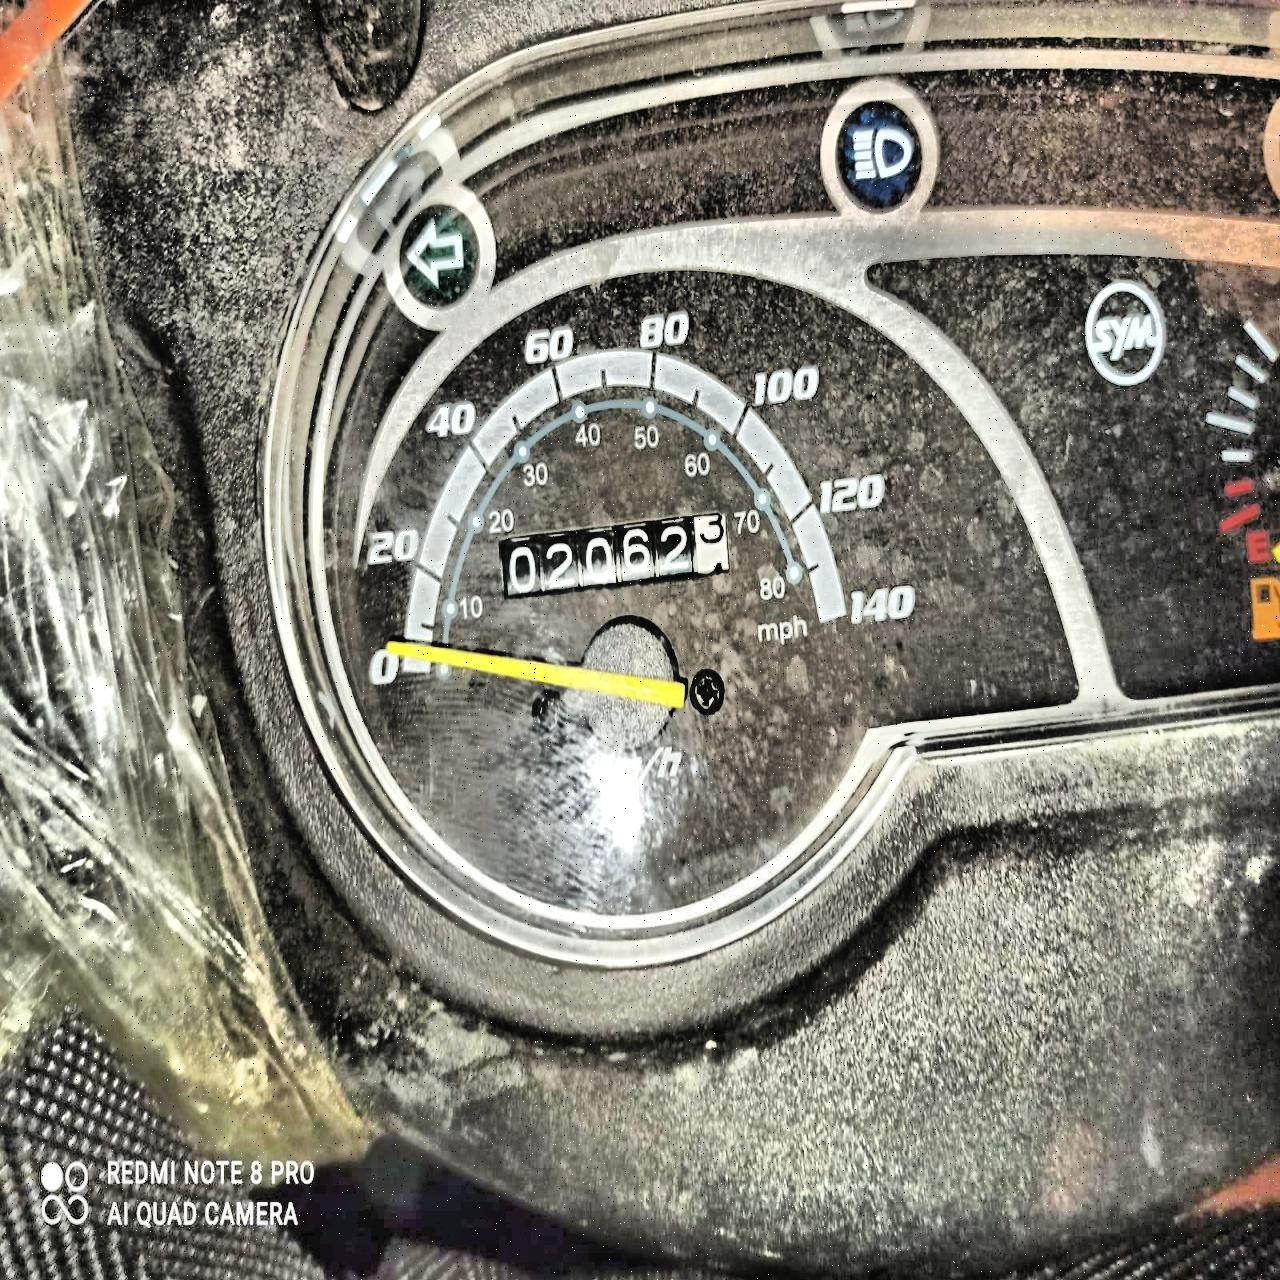0: (586, 535, 617, 587), (506, 545, 536, 593), (502, 506, 516, 530)
2: (544, 538, 576, 592), (659, 525, 689, 573), (488, 509, 501, 531)
3: (699, 511, 726, 545)
6: (622, 525, 654, 572)
odometer: (491, 511, 735, 606)
